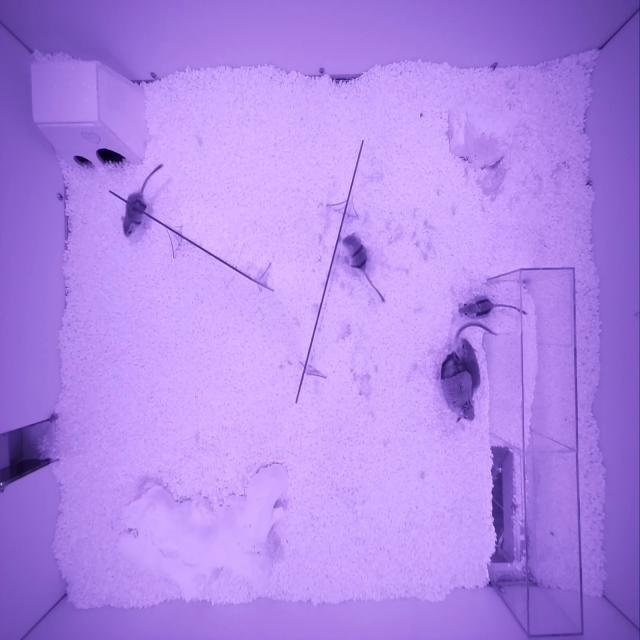adult_back: (441, 351, 476, 423)
pup_fluffy: (457, 339, 482, 390)
pup_h_stripe: (342, 232, 368, 272)
pup_spotted: (120, 191, 146, 238)
pup_v_stripe: (458, 296, 493, 319)
